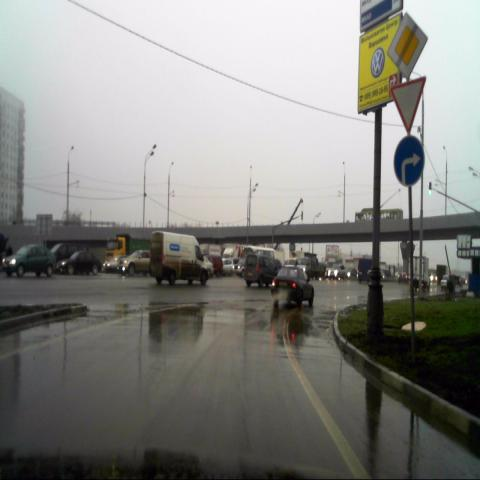4_1_2: (394, 136, 424, 187)
